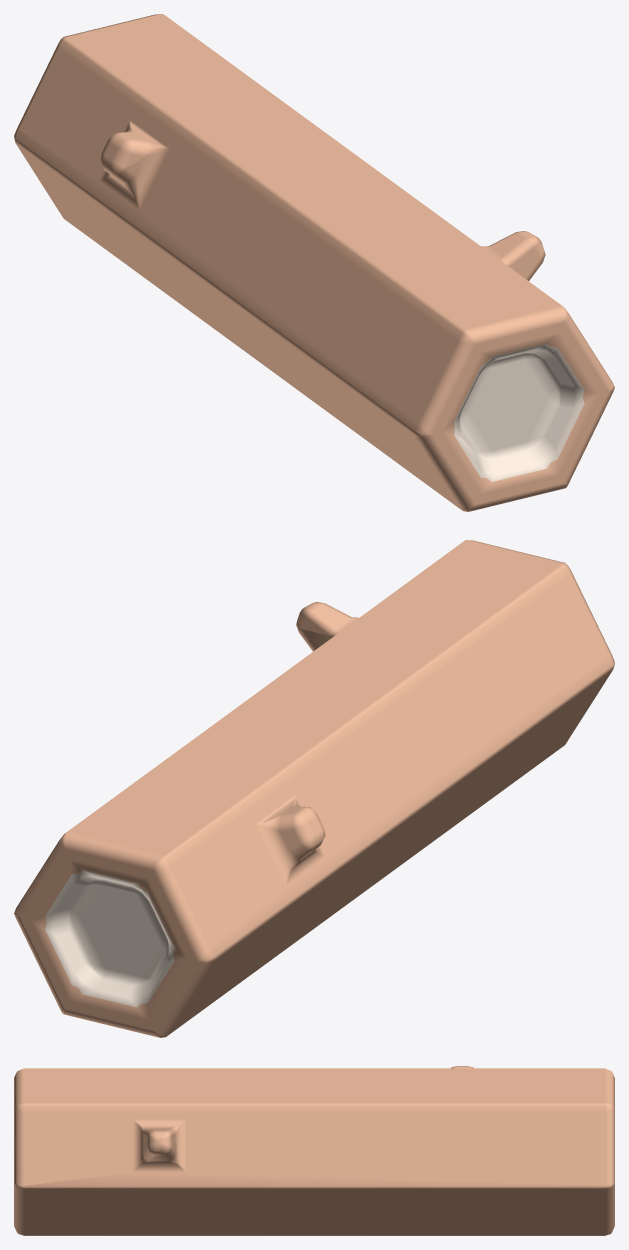
Rendered from log.glb.
The picture shows the model from 3 angles, top to bottom: view 1: azimuth 30°, elevation 25°; view 2: azimuth 150°, elevation 25°; view 3: azimuth 270°, elevation 25°; orthographic projection. The views are drawn at different scales.
Parts seen in each view (by area): view 1: log; view 2: log; view 3: log.
Boxes of the visible parts, box(x1,y1,x2,y2) form: log: box(14, 14, 614, 511); log: box(14, 540, 614, 1037); log: box(14, 1066, 614, 1235).
Bounding box in the file's own units: 0.2265 × 0.1732 × 0.71.
